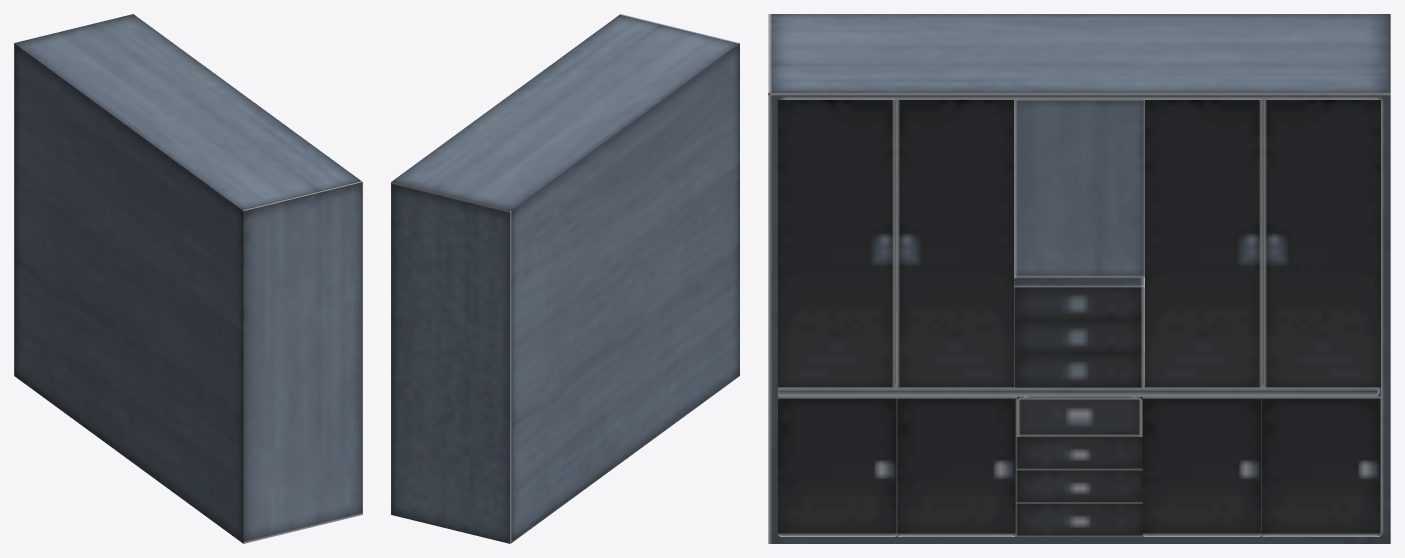
The model's file is Blue Large Wardrobe.fbx.
The picture shows the model from 3 angles, left to right: view 1: azimuth 30°, elevation 25°; view 2: azimuth 150°, elevation 25°; view 3: azimuth 270°, elevation 25°; orthographic projection. The views are drawn at different scales.
Visible parts, largest first — view 1: Blue Large Wardrobe; view 2: Blue Large Wardrobe; view 3: Blue Large Wardrobe, Upper Door-2.001, Upper Door-1.001, Upper Door-4.001, Upper Door-3.001, Bottom Door-2.001, Bottom Door-1.001, Bottom Door-4.001, Bottom Door-3.001, Bottom Drawr-4.001, Bottom Drawr-3.001, Upper Drawr-1.001 (+4 smaller).
Boxes of the visible parts, bbox=[...] form: Blue Large Wardrobe: bbox=[14, 14, 362, 543]; Blue Large Wardrobe: bbox=[391, 14, 739, 543]; Blue Large Wardrobe: bbox=[768, 14, 1390, 543]; Upper Door-2.001: bbox=[1145, 99, 1262, 387]; Upper Door-1.001: bbox=[1263, 99, 1380, 387]; Upper Door-4.001: bbox=[778, 99, 895, 387]; Upper Door-3.001: bbox=[896, 100, 1013, 387]; Bottom Door-2.001: bbox=[1142, 396, 1261, 536]; Bottom Door-1.001: bbox=[1261, 396, 1380, 536]; Bottom Door-4.001: bbox=[778, 396, 897, 536]; Bottom Door-3.001: bbox=[897, 396, 1016, 536]; Bottom Drawr-4.001: bbox=[1016, 396, 1142, 436]; Bottom Drawr-3.001: bbox=[1016, 396, 1142, 470]; Upper Drawr-1.001: bbox=[1014, 354, 1144, 387].
Bounding box in the file's own units: 150 × 400 × 500.
